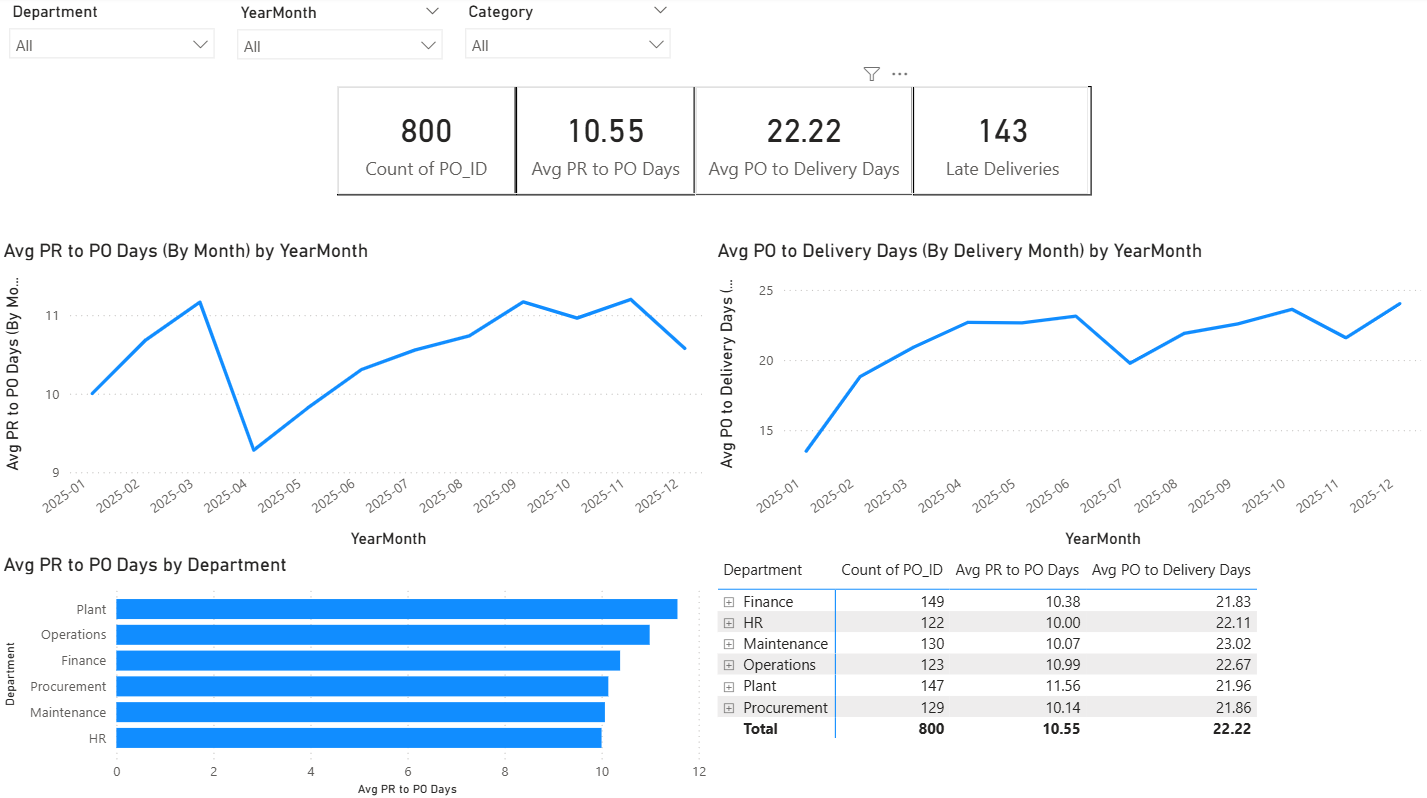

What the dashboard file says about the page in this screenshot:
{"tool":"powerbi","page":{"name":"Procurement Efficiency","canvas":[1280,720],"ordinal":1},"visuals":[{"type":"card","fields":{"Values":["CountNonNull(purchase_orders.PO_ID)"]},"box":[304,80,160,98.3],"z":0,"group":"g1"},{"type":"lineChart","fields":{"Category":["DimMonth.YearMonth"],"Y":["_Measures.Avg PR to PO Days (By Month)"]},"box":[0,250,639.4,247.5],"z":0},{"type":"card","fields":{"Values":["_Measures.Avg PR to PO Days"]},"box":[464.5,80,160.5,98.3],"z":1000,"group":"g1"},{"type":"lineChart","fields":{"Category":["DimMonth.YearMonth"],"Y":["_Measures.Avg PO to Delivery Days (By Delivery Month)"]},"box":[639.4,250,640.6,247.5],"z":1000},{"type":"card","fields":{"Values":["_Measures.Avg PO to Delivery Days"]},"box":[624.9,80,195.3,98.3],"z":2000,"group":"g1"},{"type":"barChart","fields":{"Category":["DimDepartment.Department"],"Y":["_Measures.Avg PR to PO Days"]},"box":[0,497.6,639.4,222.7],"z":2000},{"type":"card","fields":{"Values":["_Measures.Late Deliveries"]},"box":[820.2,80,160.5,98.3],"z":3000,"group":"g1"},{"type":"pivotTable","fields":{"Rows":["DimDepartment.Department","purchase_requisitions.Category"],"Values":["CountNonNull(purchase_orders.PO_ID)","_Measures.Avg PR to PO Days","_Measures.Avg PO to Delivery Days"]},"box":[639.4,497.6,640.6,222.7],"z":3000},{"type":"slicer","fields":{"Values":["DimDepartment.Department"]},"box":[0,0,204,75.9],"z":4000},{"type":"slicer","fields":{"Values":["DimMonth.YearMonth"]},"box":[204,1.2,204,75.9],"z":5000},{"type":"slicer","fields":{"Values":["purchase_requisitions.Category"]},"box":[408,0,204,75.9],"z":6000},{"type":"group","id":"g1","title":"Group 1","box":[304,80,672,96],"z":7000}]}

Visuals, with their boxes in screenshot pixels (x1, y1, x2, y2), scaled from the page's 1280x720 canvas onto the 1427x798 screenshot:
card - CountNonNull(purchase_orders.PO_ID): (339, 89, 517, 198)
lineChart - DimMonth.YearMonth x _Measures.Avg PR to PO Days (By Month): (0, 277, 713, 551)
card - _Measures.Avg PR to PO Days: (518, 89, 697, 198)
lineChart - DimMonth.YearMonth x _Measures.Avg PO to Delivery Days (By Delivery Month): (713, 277, 1426, 551)
card - _Measures.Avg PO to Delivery Days: (697, 89, 914, 198)
barChart - DimDepartment.Department x _Measures.Avg PR to PO Days: (0, 552, 713, 797)
card - _Measures.Late Deliveries: (914, 89, 1093, 198)
pivotTable - DimDepartment.Department x purchase_requisitions.Category: (713, 552, 1426, 797)
slicer - DimDepartment.Department: (0, 0, 227, 84)
slicer - DimMonth.YearMonth: (227, 1, 455, 85)
slicer - purchase_requisitions.Category: (455, 0, 682, 84)
"Group 1" group: (339, 89, 1088, 195)
